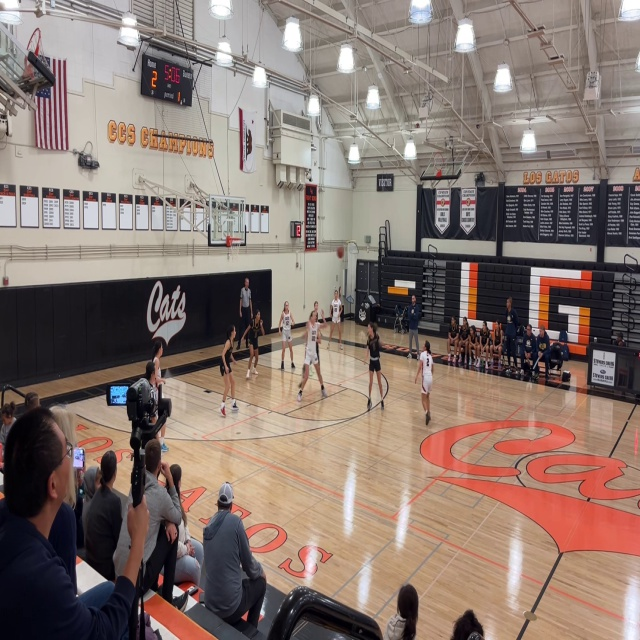Basketball: (337, 246, 344, 258)
